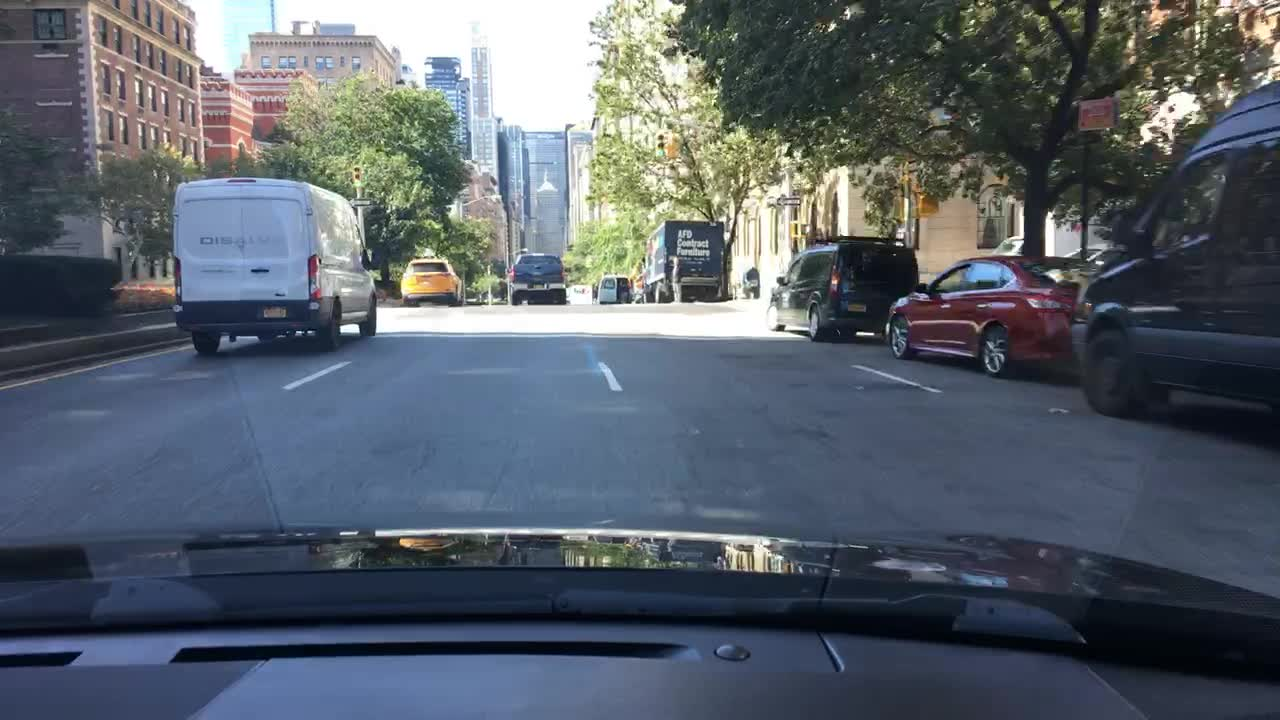car: (1079, 71, 1278, 438), (170, 176, 377, 352), (883, 249, 1102, 382), (763, 238, 923, 341), (396, 251, 468, 309), (503, 249, 568, 307), (588, 272, 638, 305)
traffic light: (918, 192, 942, 216), (892, 196, 906, 219), (790, 219, 808, 236), (655, 133, 666, 160), (668, 135, 678, 159), (352, 165, 363, 185)
traffic sign: (1079, 95, 1116, 132), (774, 195, 801, 206), (348, 197, 369, 206), (903, 159, 914, 171)
truck: (639, 216, 730, 306)
